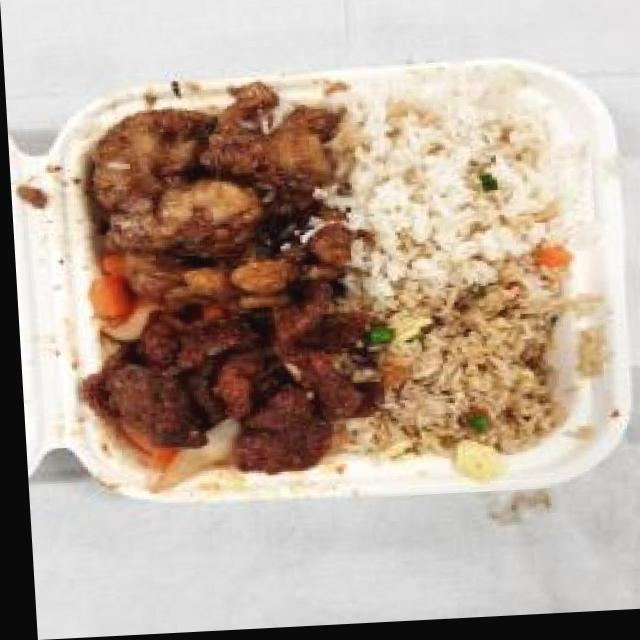Beijing Beef: (74, 295, 381, 488)
Fried Rice: (345, 292, 586, 472)
The Original Orange Chicken: (72, 81, 347, 305)
White Steamed Rice: (332, 92, 580, 305)
